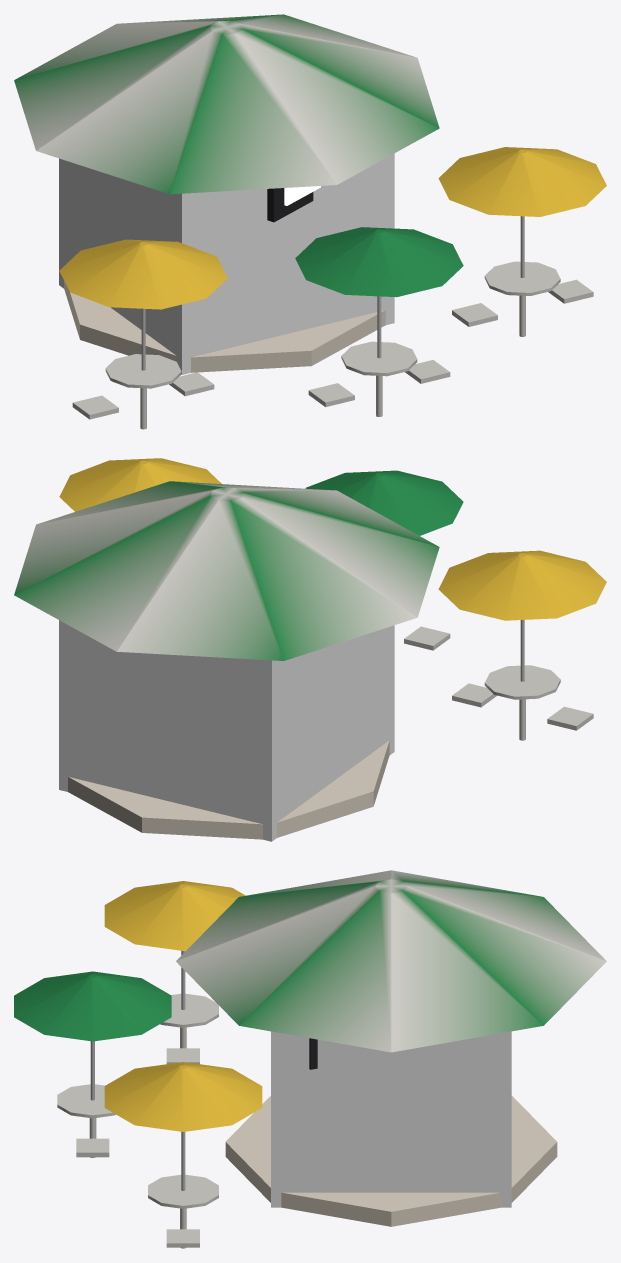
File: quiosco_playa.glb
3 renders of one model, top to bottom at view 1: azimuth 30°, elevation 25°; view 2: azimuth 150°, elevation 25°; view 3: azimuth 270°, elevation 25°, orthographic. The views are drawn at different scales.
Parts seen in each view (by area): view 1: quiosco_playa_Malla, COL_0; view 2: quiosco_playa_Malla, COL_0; view 3: quiosco_playa_Malla, COL_0.
Part boxes in pixels (x1,y1,x2,y2): quiosco_playa_Malla: (14,14,606,429); COL_0: (59,153,394,374); quiosco_playa_Malla: (14,458,606,839); COL_0: (59,620,394,841); quiosco_playa_Malla: (14,870,606,1248); COL_0: (271,1031,511,1207).
Size of the model in its own units: 7.16 by 3.6 by 7.15.
